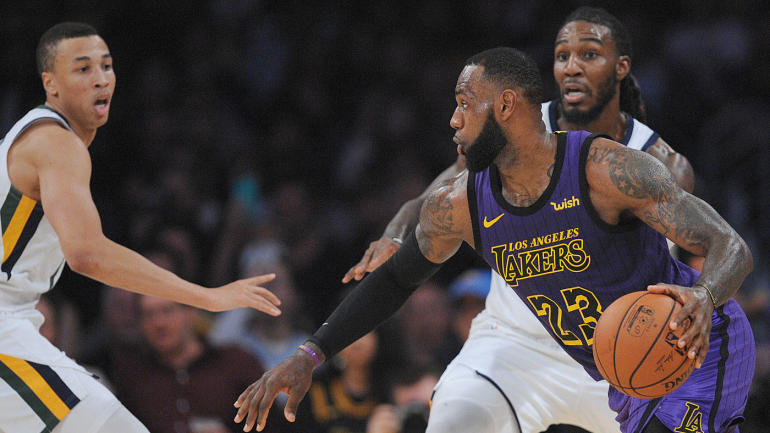Basketball: (590, 291, 696, 400)
